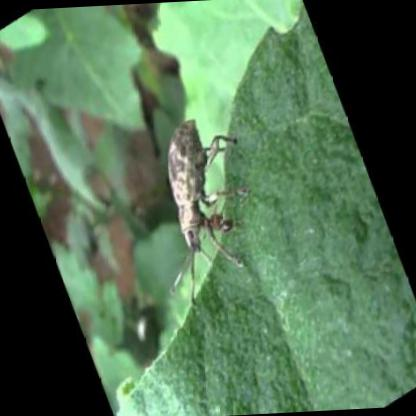ash weevil: (166, 120, 246, 306)
